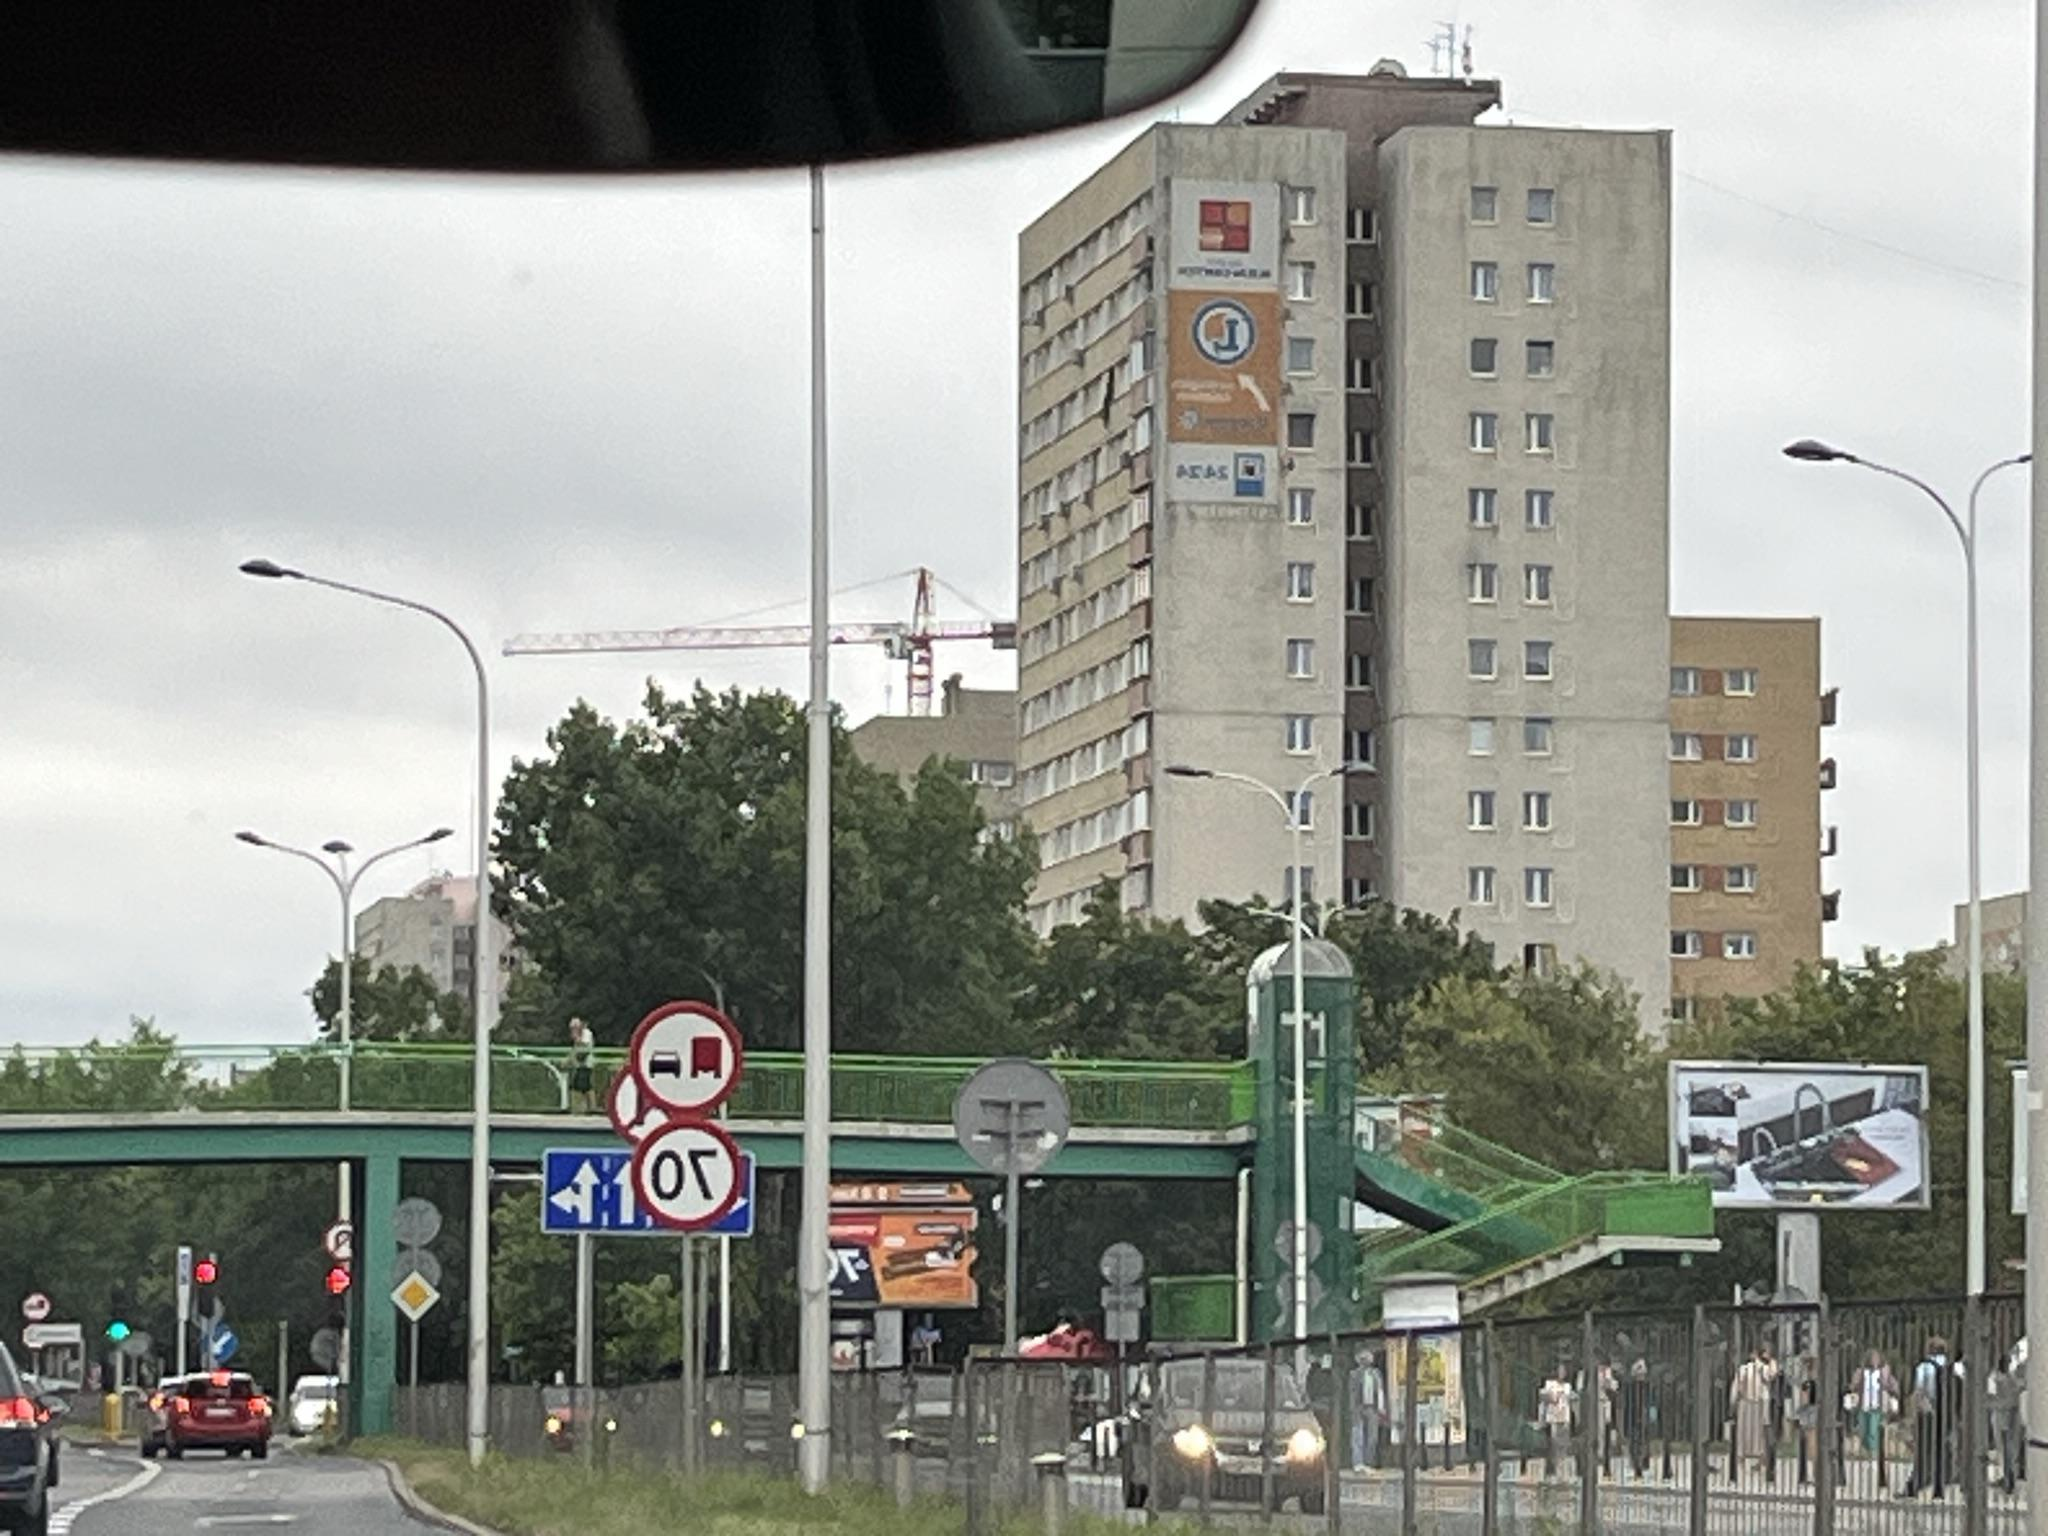information: (389, 1271, 440, 1323)
mandatory: (208, 1325, 239, 1363)
other: (540, 1152, 755, 1236)
prohibitory: (629, 999, 743, 1110), (631, 1120, 745, 1228), (605, 1060, 708, 1150), (321, 1220, 355, 1262), (21, 1292, 50, 1325)
